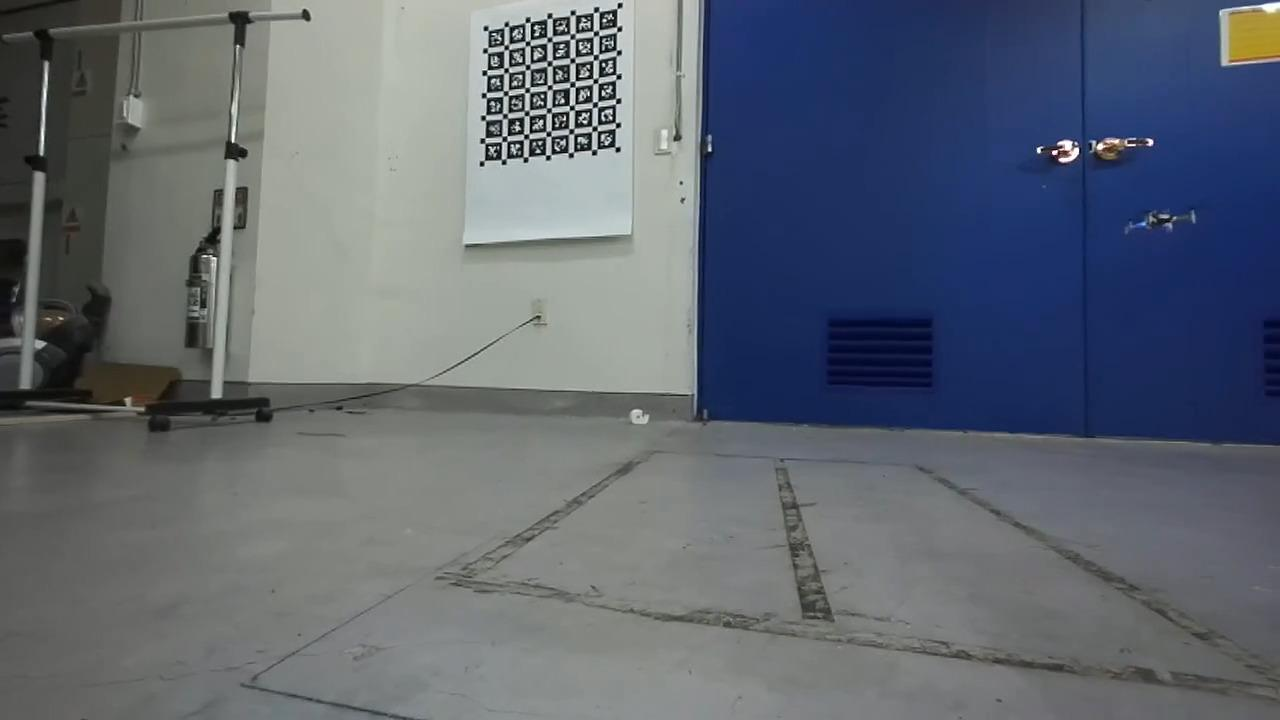crazyflie: (1119, 204, 1205, 236)
